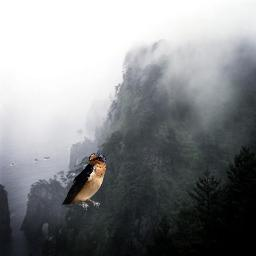Swallow: (61, 152, 106, 210)
